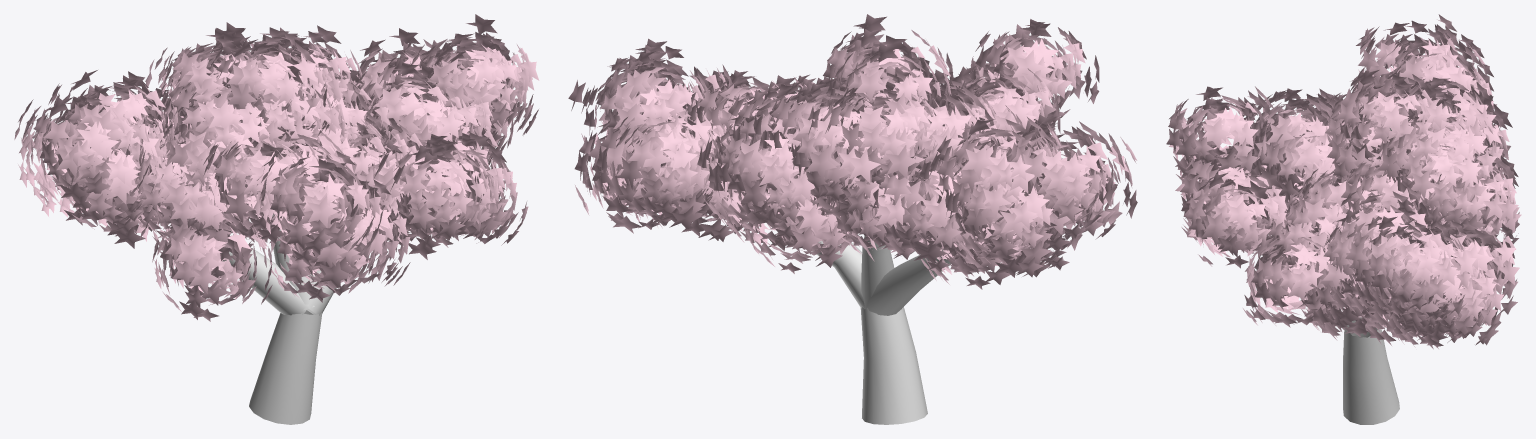
File: 05_Sakura_Agaci.fbx
3 renders of one model, left to right at view 1: azimuth 30°, elevation 25°; view 2: azimuth 150°, elevation 25°; view 3: azimuth 270°, elevation 25°, orthographic. The views are drawn at different scales.
Visible parts, largest first — view 1: 05_Sakura_Agaci; view 2: 05_Sakura_Agaci; view 3: 05_Sakura_Agaci.
Part boxes in pixels (bbox=[...]): 05_Sakura_Agaci: bbox=[14, 14, 539, 424]; 05_Sakura_Agaci: bbox=[568, 14, 1137, 424]; 05_Sakura_Agaci: bbox=[1166, 14, 1521, 424].
Bounding box in the file's own units: 853 × 602 × 588.
